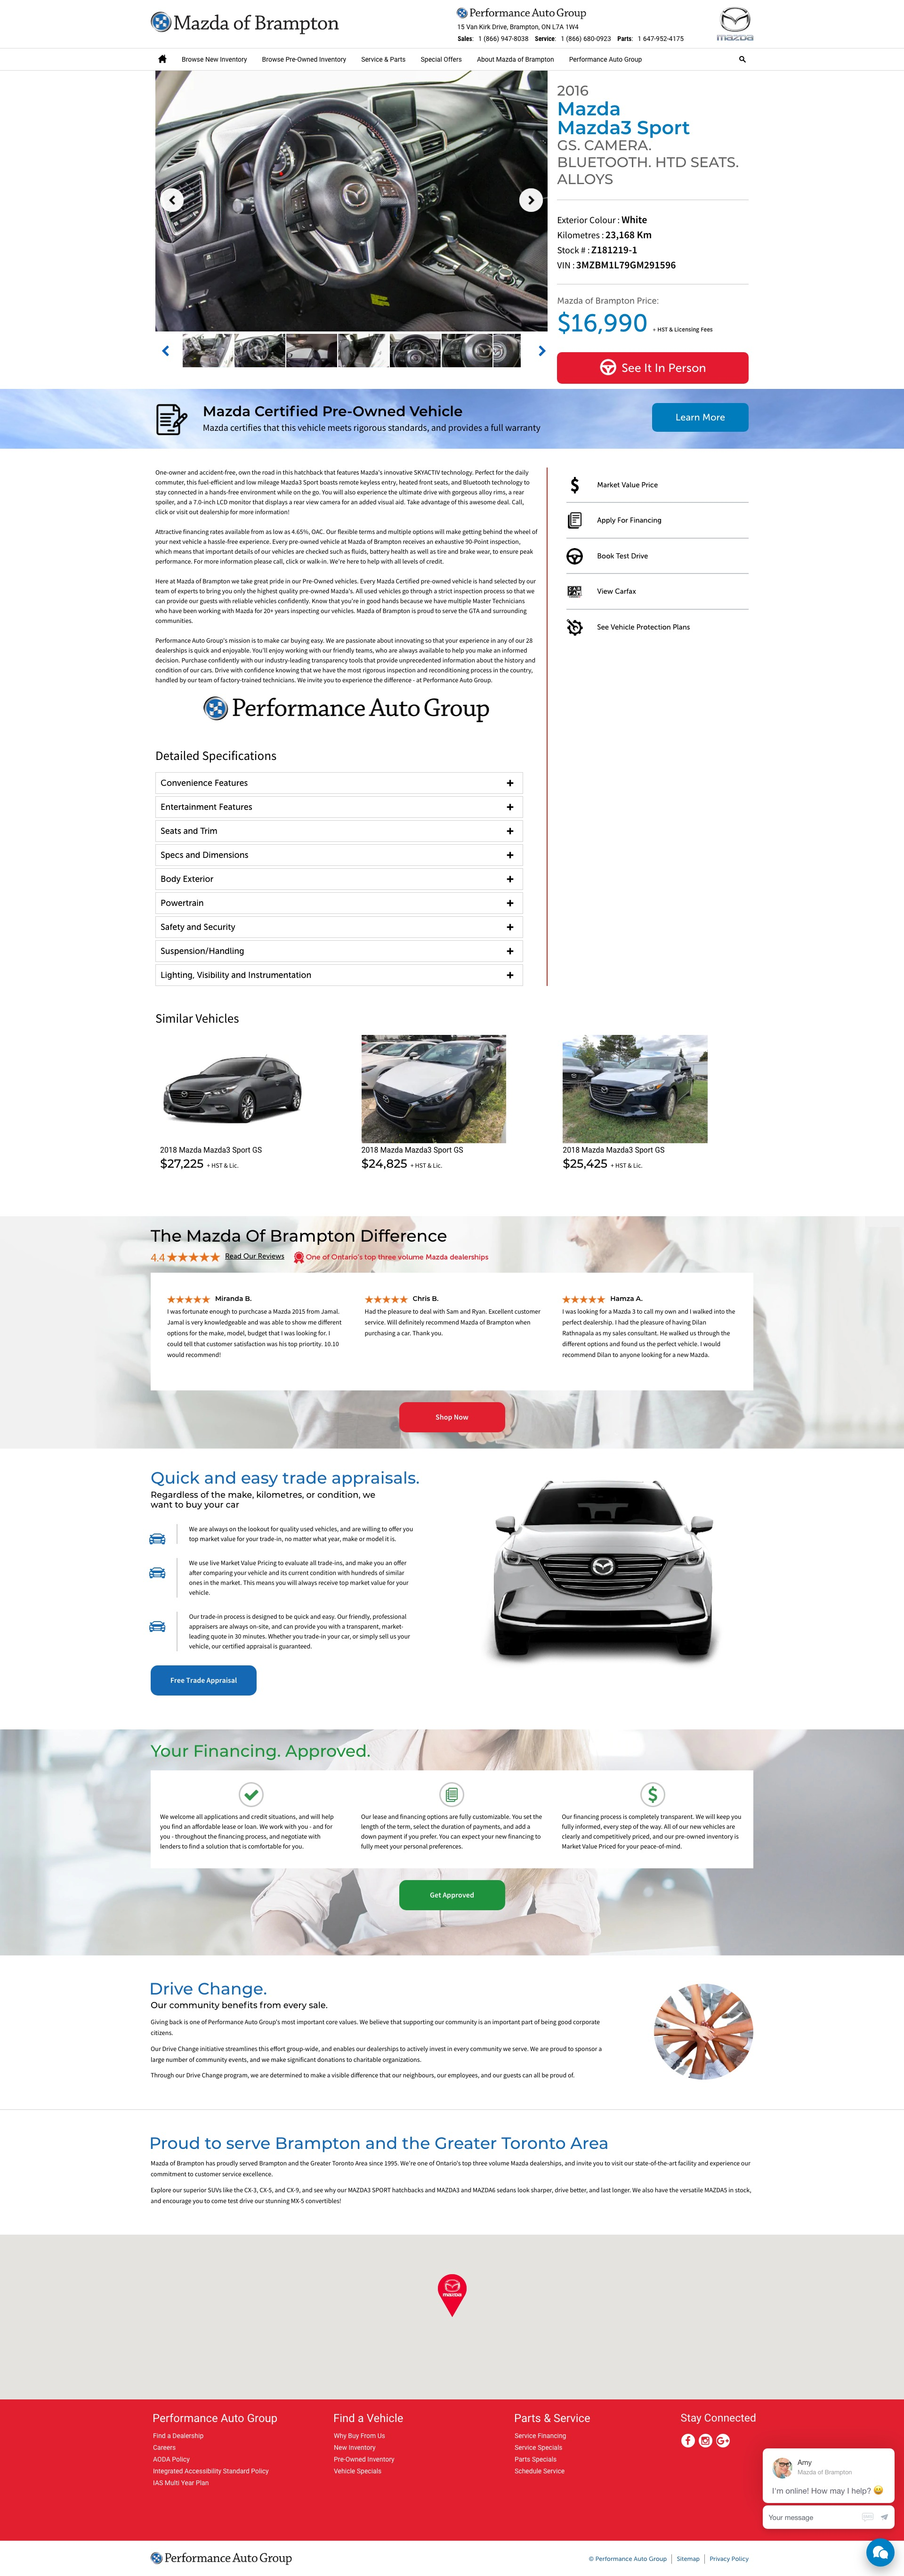car: (537, 345, 547, 358)
